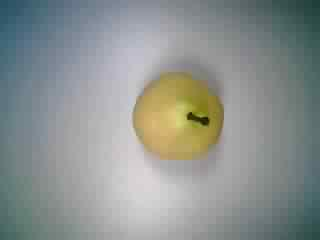pear: (122, 68, 237, 168)
